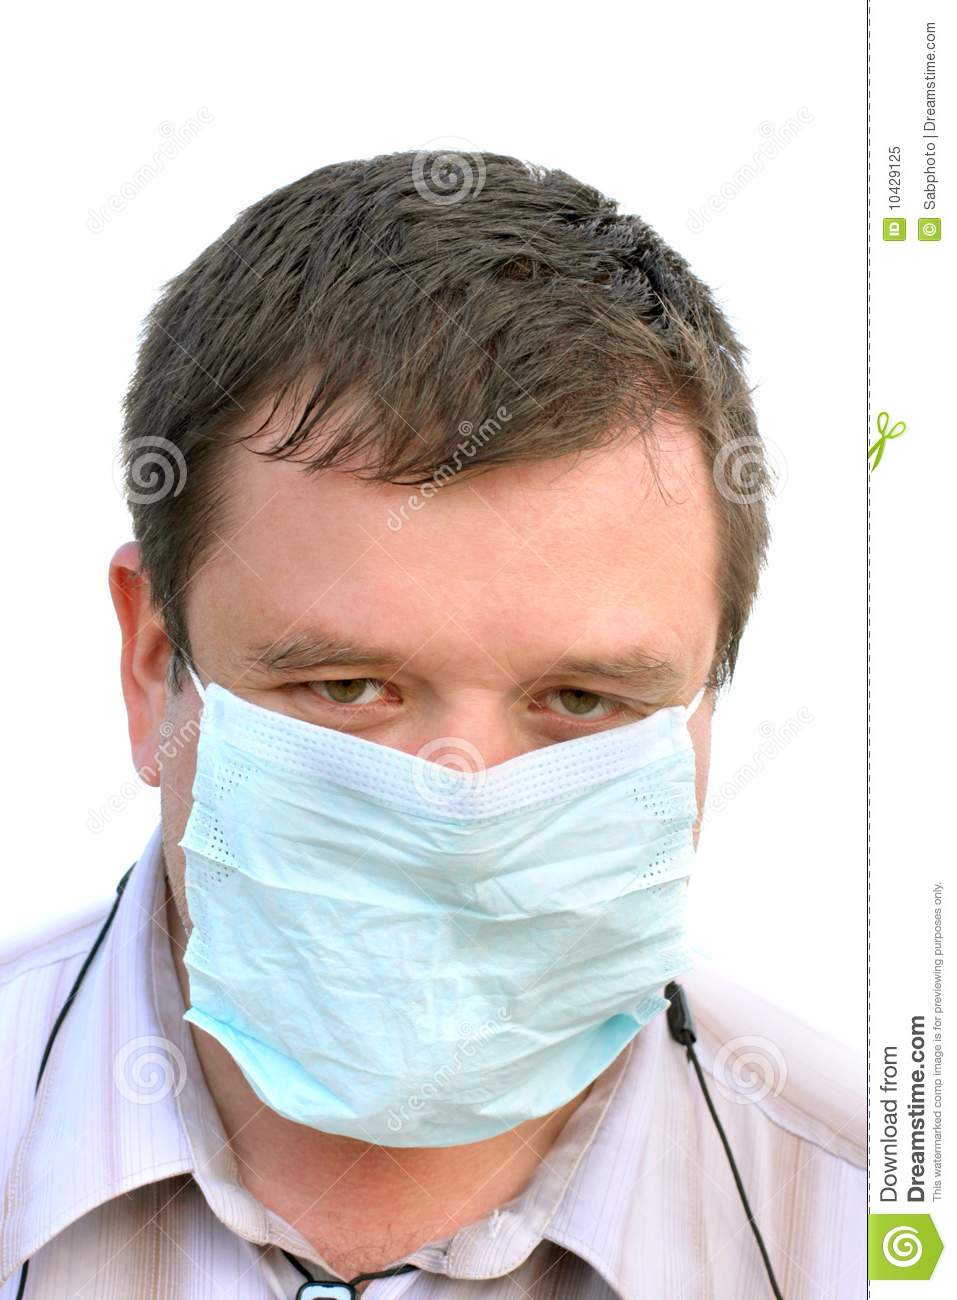mask: (182, 684, 697, 1161)
